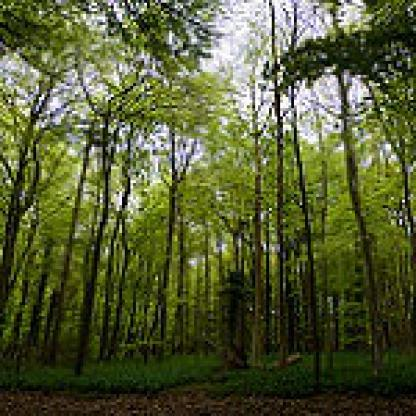tree: (142, 64, 230, 360), (0, 61, 67, 311)
trunk: (336, 75, 386, 369), (72, 103, 114, 377), (288, 97, 324, 386), (266, 0, 294, 366), (250, 75, 266, 374)
